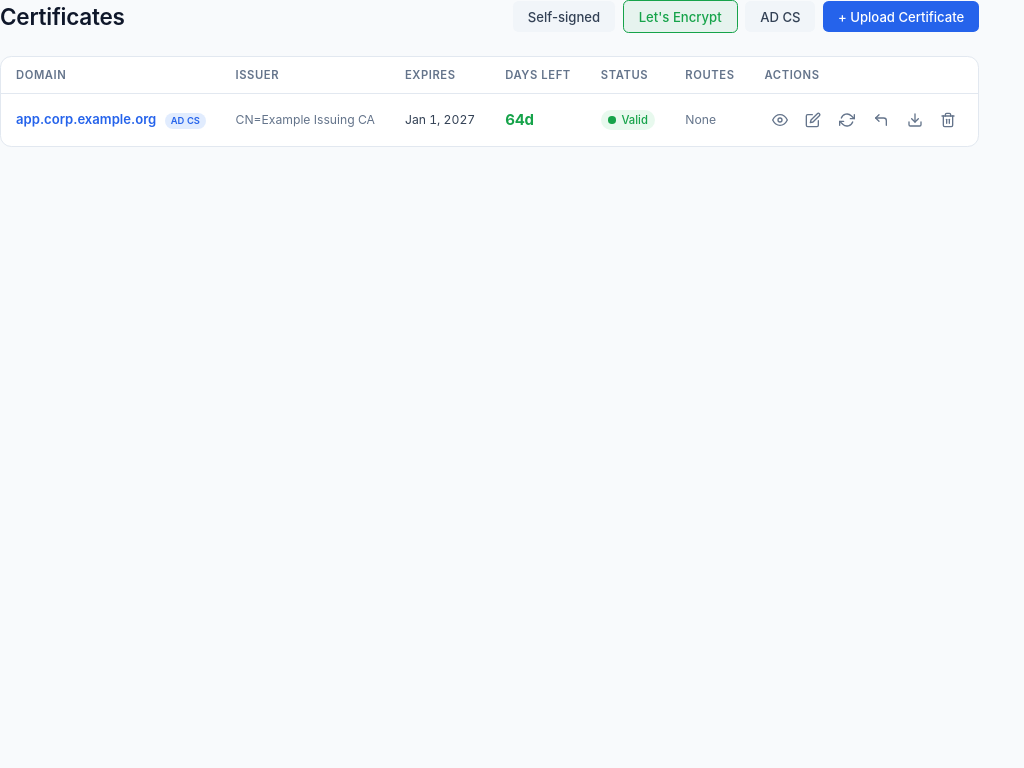
Test: Certificates AD CS "Renew now" outcomes › 202: shows the request id and that nothing was stored
Expected: the button "app.corp.example.org" is shown, [16,111,156,127]
Click the button named "Renew certificate from AD CS".
click(847, 120)  # box [832,105,862,135]
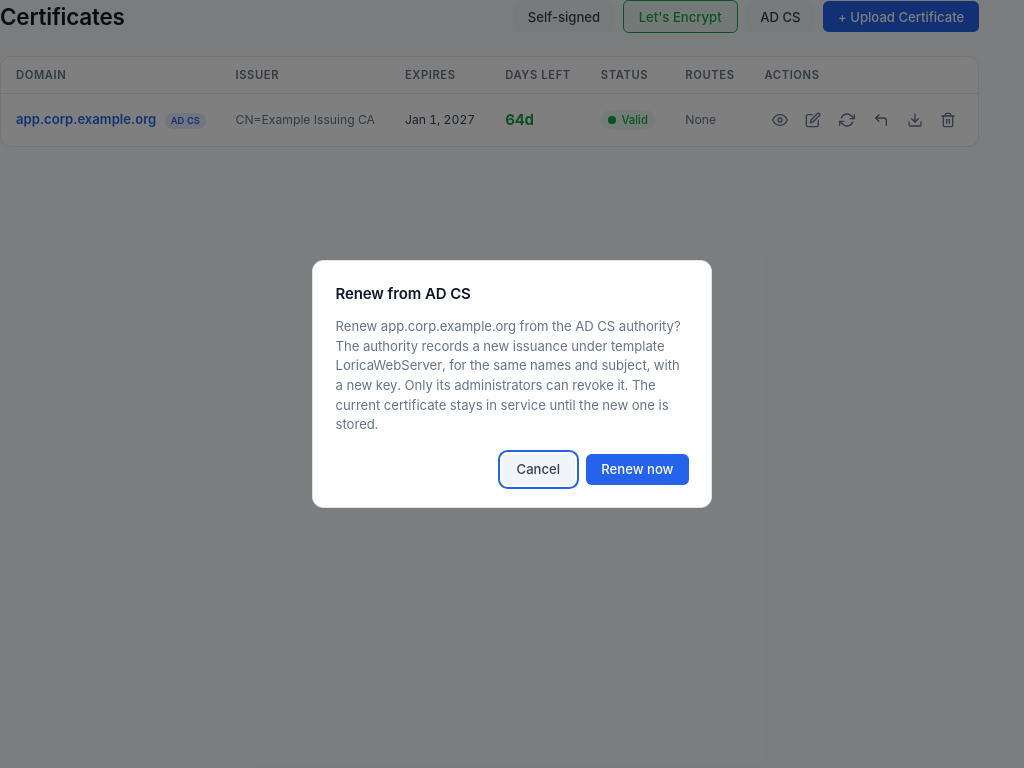
Click the button "Renew now".
click(637, 469)  # box [586,454,688,485]
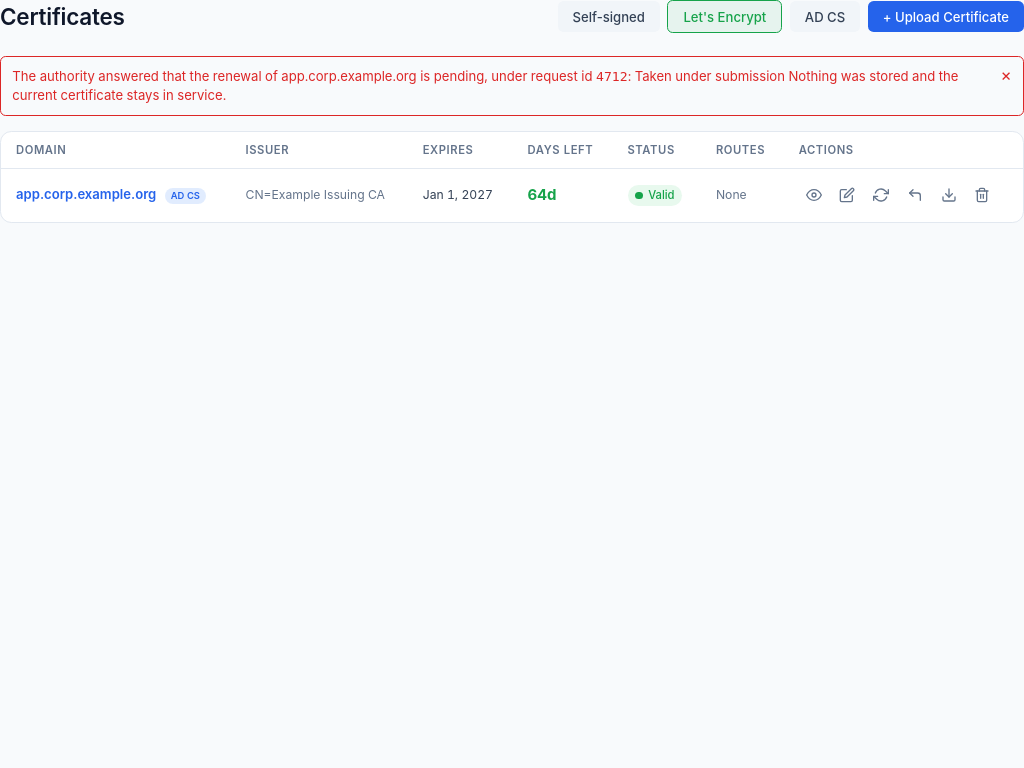
Expected: the message with test id "adcs-renew-outcome" shows "4712", [596,69,628,84]
Expected: the message with test id "adcs-renew-outcome" shows "Taken under submission", [12,68,958,103]
Expected: the message with test id "adcs-renew-outcome" shows "Nothing was stored", [12,68,958,103]
